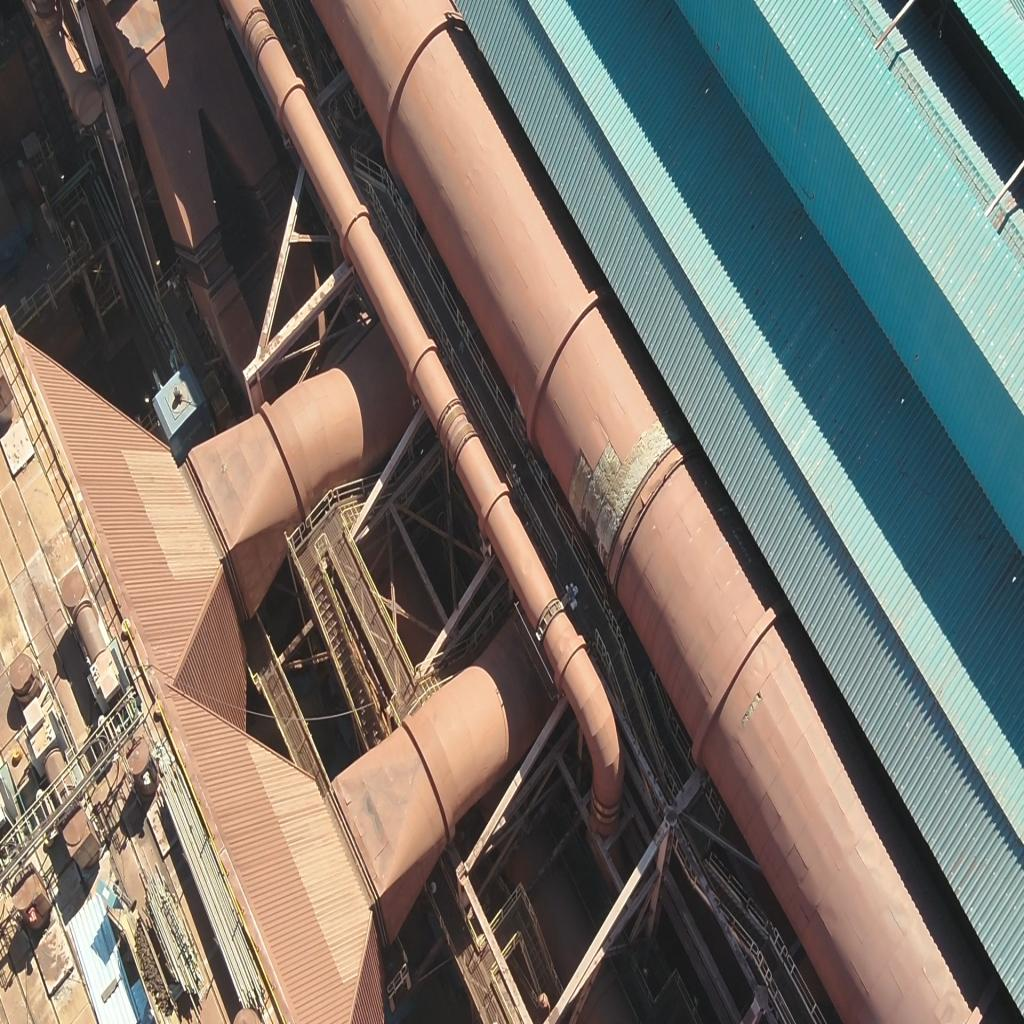Failures: (596, 427, 671, 543), (582, 444, 620, 546), (565, 451, 593, 512)
